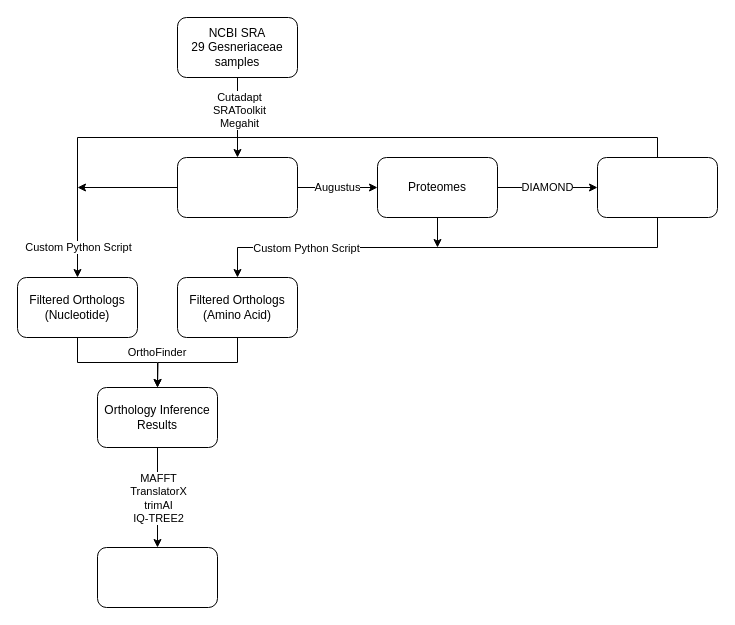
This 735x625 diagram has some shape labels left out. Each missing label, with the centre of its shape:
"Assemblies" belongs at pixel 237 187.
"Final Phylogeny" belongs at pixel 157 577.
"Sequence Matches" belongs at pixel 657 187.
